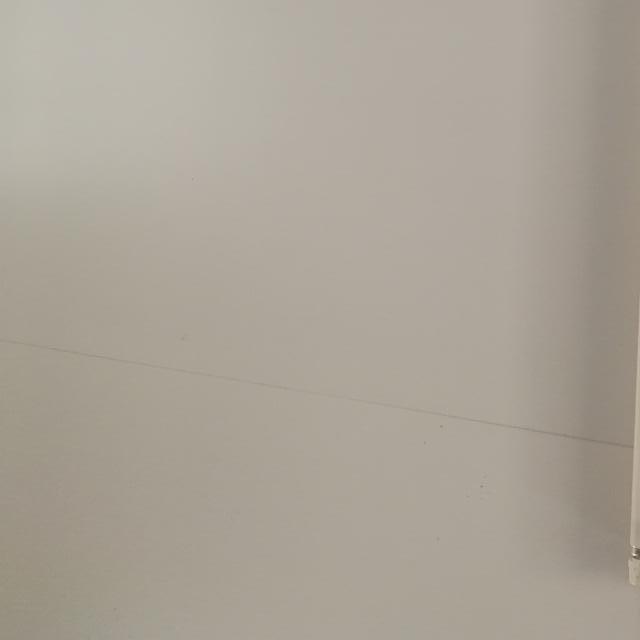fluorescent tube: (588, 0, 640, 605)
